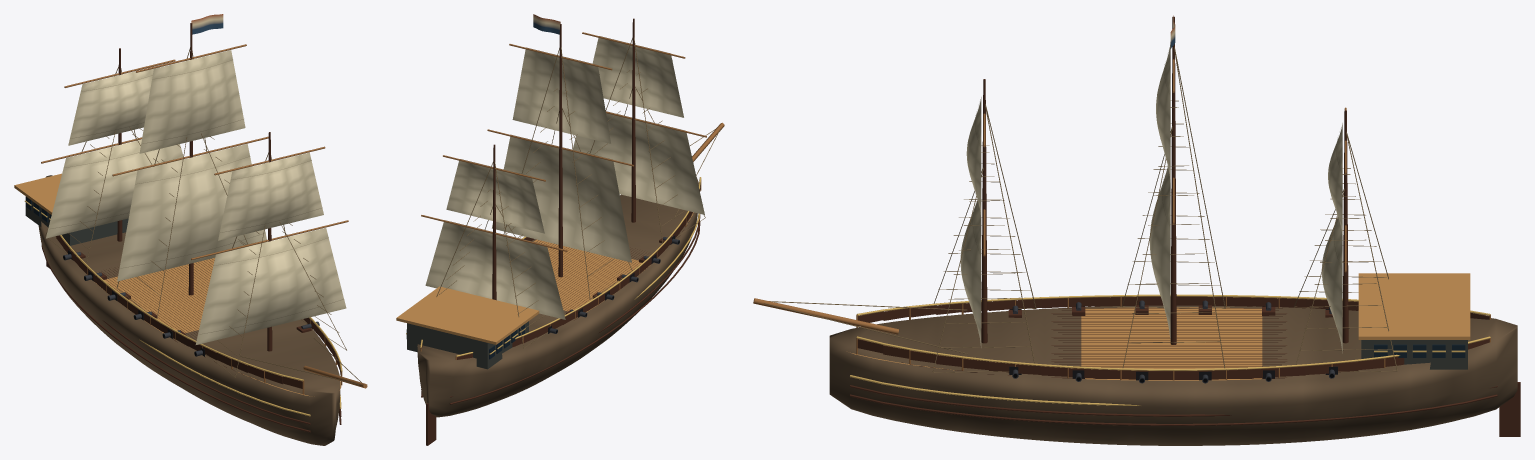
Rendered from voc-lod0.glb.
3 renders of one model, left to right at view 1: azimuth 30°, elevation 25°; view 2: azimuth 150°, elevation 25°; view 3: azimuth 270°, elevation 25°, orthographic. The views are drawn at different scales.
Visible parts, largest first — view 1: hull, sail_03, sail_05, sail_04, sail_01, sail_06, deck, sail_02, fittings_wood, fittings_trim, fittings_deck, stern_gallery_body (+5 smaller); view 2: hull, sail_03, sail_01, sail_05, sail_04, fittings_deck, sail_06, sail_02, deck, fittings_trim, fittings_wood, stern_gallery_body (+9 smaller); view 3: hull, fittings_deck, fittings_wood, deck, fittings_trim, sail_03, sail_05, sail_01, stern_gallery_body, mast_timber_02, fittings_iron, sail_04 (+5 smaller).
Boxes of the visible parts, x1,y1,x2,y2 form: hull: (38,175,340,445); sail_03: (117,144,266,281); sail_05: (195,228,346,344); sail_04: (139,50,245,153); sail_01: (46,139,183,238); sail_06: (218,152,323,240); deck: (96,258,341,396); sail_02: (68,67,159,145); fittings_wood: (41,235,367,432); fittings_trim: (24,47,365,416); fittings_deck: (14,173,319,384); stern_gallery_body: (25,201,128,245); hull: (417,177,698,417); sail_03: (492,134,631,262); sail_01: (425,220,565,319); sail_05: (573,111,704,214); sail_04: (512,47,610,143); fittings_deck: (396,213,693,344); sail_06: (592,36,683,117); sail_02: (446,159,544,233); deck: (533,212,693,312); fittings_trim: (406,37,720,356); fittings_wood: (420,122,724,404); stern_gallery_body: (407,321,528,369); hull: (829,305,1517,445); fittings_deck: (902,273,1470,378); fittings_wood: (753,296,1497,425); deck: (850,307,1262,380); fittings_trim: (764,47,1490,406); sail_03: (1149,166,1170,340); sail_05: (960,200,981,347); sail_01: (1321,217,1342,353); stern_gallery_body: (1361,340,1467,369); mast_timber_02: (1170,16,1176,344); fittings_iron: (1009,306,1465,380); sail_04: (1156,42,1170,182).
Size of the model in its own units: 12.7 by 27.1 by 44.62.
